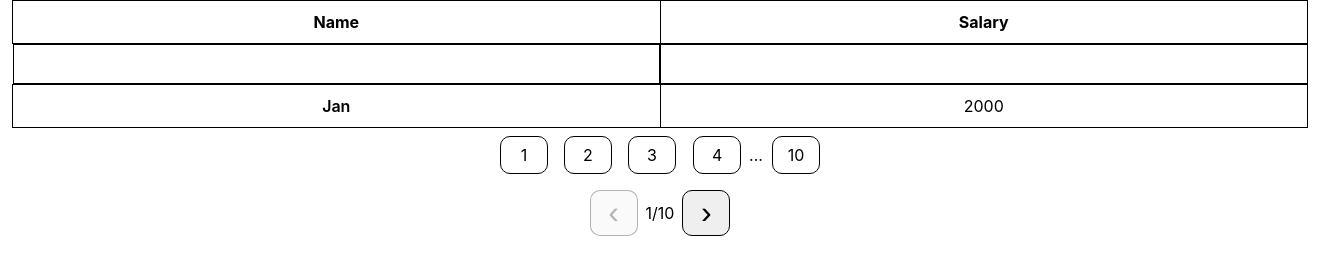
Test: TableSdk pagination › should show pagination end dots
This screenshot has width=1325, height=253.
Check: the text "..." is shown, box x1=749 y1=145 x2=763 y2=165
Click the list item with test id "4/pageNumber/test/false". click: (717, 155)
box: x1=693 y1=136 x2=741 y2=174
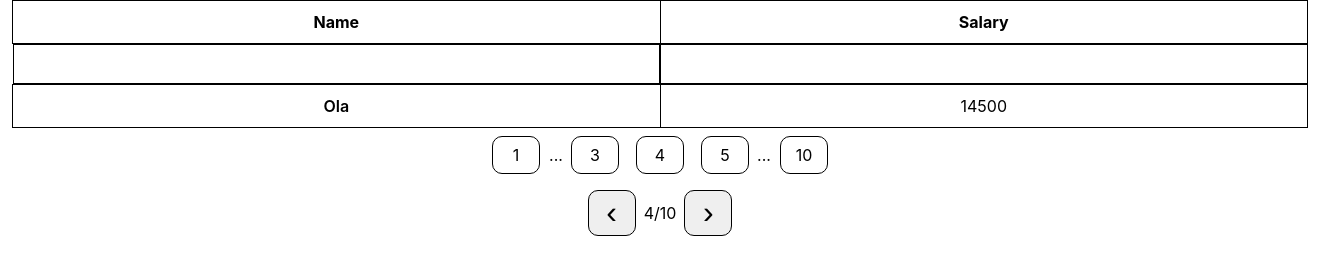
Check: the text with test id "endDots" is shown, box x1=757 y1=145 x2=771 y2=165
Check: the text with test id "startDots" is shown, box x1=549 y1=145 x2=563 y2=165
Click the list item with test id "10/pageNumber/test/false". click: (804, 155)
box: x1=780 y1=136 x2=828 y2=174
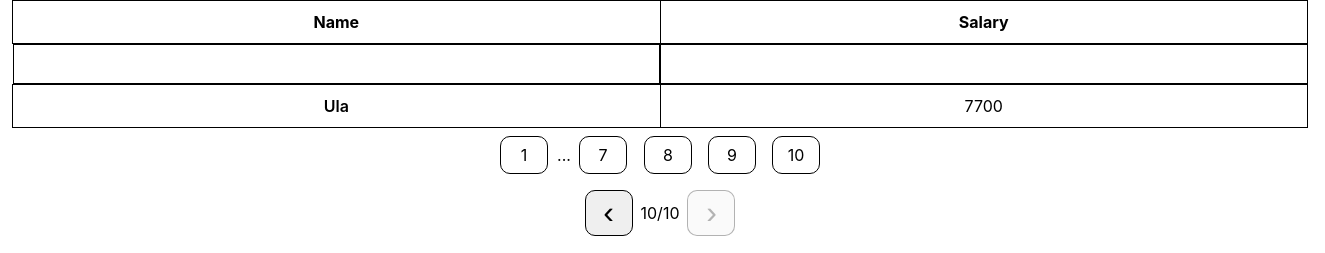
Check: the text "..." is shown, box x1=557 y1=145 x2=571 y2=165
Check: the text with test id "endDots" is gone
